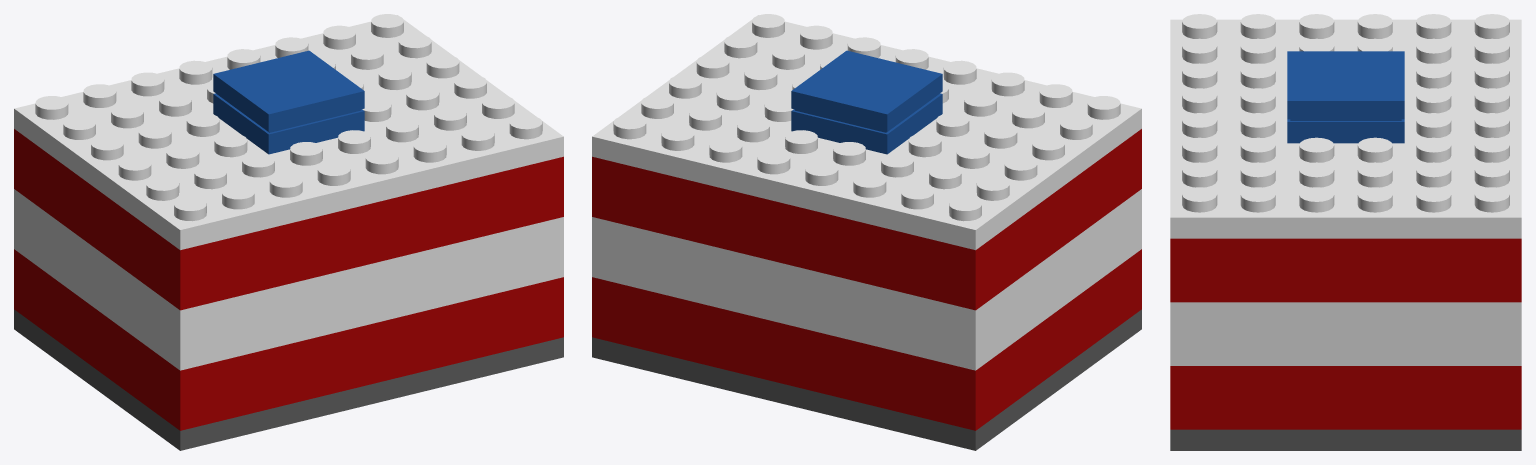
File: cargo.glb
3 renders of one model, left to right at view 1: azimuth 30°, elevation 25°; view 2: azimuth 150°, elevation 25°; view 3: azimuth 270°, elevation 25°, orthographic. The views are drawn at different scales.
Visible parts, largest first — view 1: 3001.dat (×12), 3036.dat (×2), 3068b.dat, 3022.dat; view 2: 3001.dat (×12), 3036.dat (×2), 3068b.dat, 3022.dat; view 3: 3036.dat (×2), 3001.dat (×9), 3068b.dat, 3022.dat.
Boxes of the visible parts, bbox=[...] form: 3001.dat (×12): bbox=[14, 129, 563, 430]; 3036.dat (×2): bbox=[14, 14, 563, 450]; 3068b.dat: bbox=[213, 50, 364, 132]; 3022.dat: bbox=[213, 93, 364, 154]; 3001.dat (×12): bbox=[592, 129, 1141, 430]; 3036.dat (×2): bbox=[592, 14, 1141, 450]; 3068b.dat: bbox=[791, 50, 942, 132]; 3022.dat: bbox=[791, 93, 942, 154]; 3036.dat (×2): bbox=[1170, 14, 1521, 450]; 3001.dat (×9): bbox=[1170, 238, 1521, 429]; 3068b.dat: bbox=[1287, 51, 1404, 120]; 3022.dat: bbox=[1287, 119, 1404, 143].
Size of the model in its own units: 6.4 by 4.16 by 4.8.
